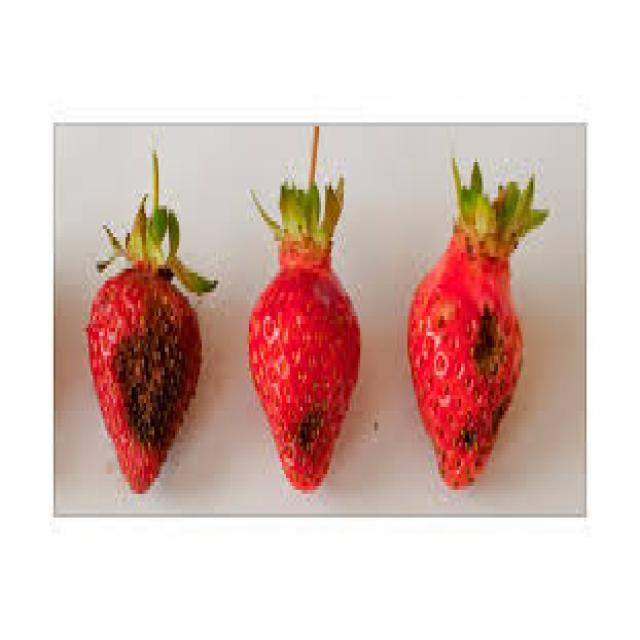Mancha negra Antracnosis: (408, 242, 535, 476), (85, 256, 212, 488), (250, 254, 358, 491)
